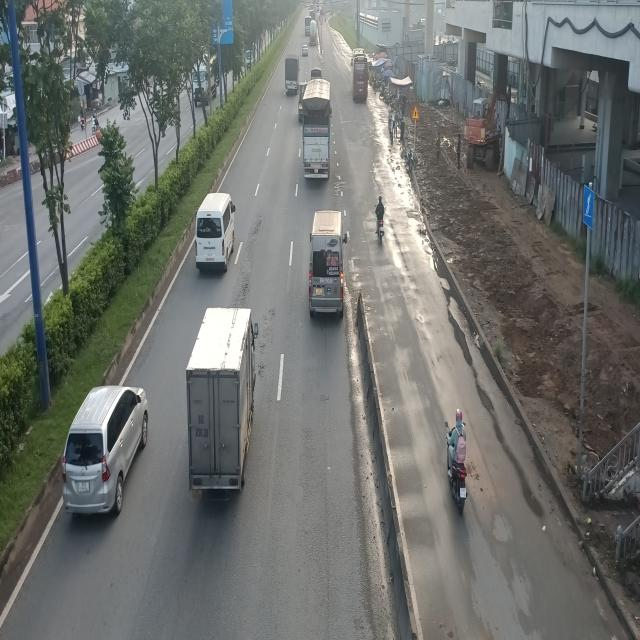car: (59, 382, 147, 518)
coach: (352, 50, 369, 100)
truck: (185, 308, 258, 501), (301, 75, 332, 179)
van: (308, 208, 347, 318), (194, 192, 238, 272)
